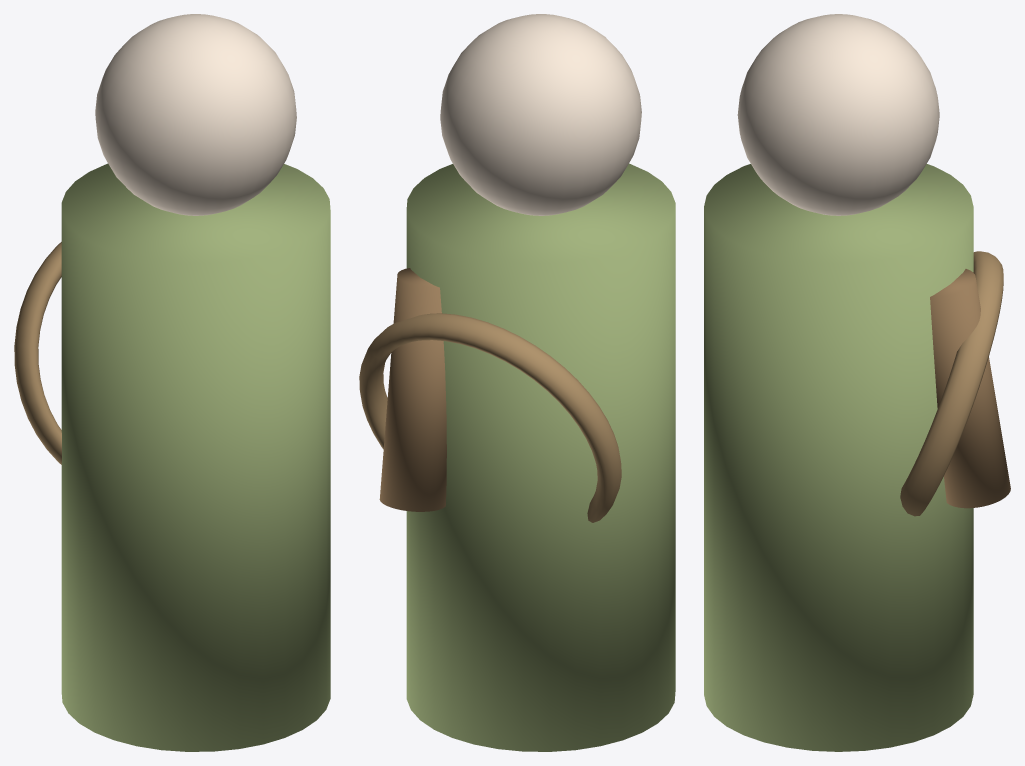
The model's file is hunter.glb.
3 views of the same model, side by side, from view 1: azimuth 30°, elevation 25°; view 2: azimuth 150°, elevation 25°; view 3: azimuth 270°, elevation 25° (orthographic).
Parts seen in each view (by area): view 1: Body, Head, Bow; view 2: Body, Head, Quiver, Bow; view 3: Body, Head, Quiver, Bow.
Part boxes in pixels (box(x1,y1,x2,y2)): Body: box(61, 163, 330, 751); Head: box(95, 14, 296, 215); Bow: box(14, 242, 61, 464); Body: box(406, 163, 675, 751); Head: box(440, 14, 641, 215); Quiver: box(379, 268, 446, 511); Bow: box(359, 313, 621, 522); Body: box(704, 164, 973, 751); Head: box(737, 14, 939, 215); Quiver: box(930, 269, 1010, 508); Bow: box(900, 251, 1003, 516).
Size of the model in its own units: 0.432 by 1.1 by 0.4556.
